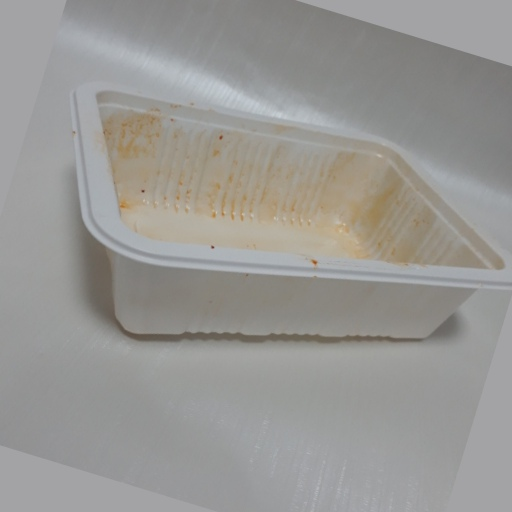Plastic_4: (68, 78, 512, 343)
